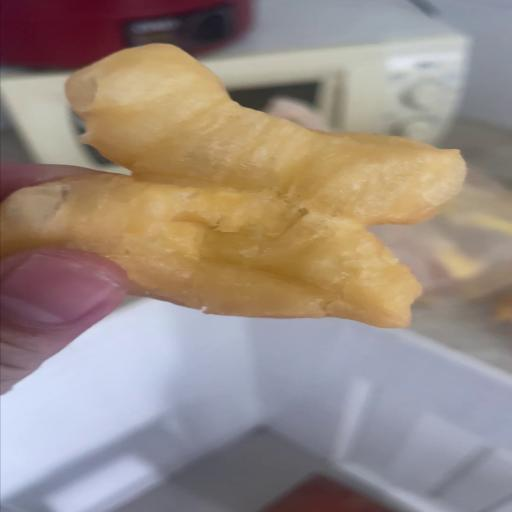street_golden_defect: (2, 44, 464, 328)
